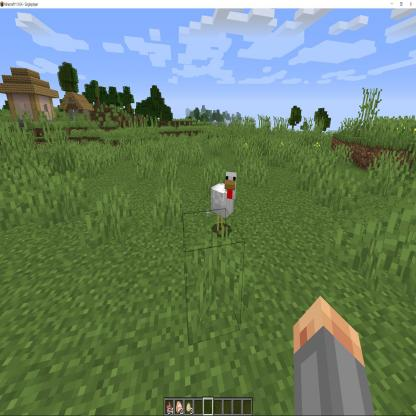minecraft-pigs: (210, 169, 239, 240)
